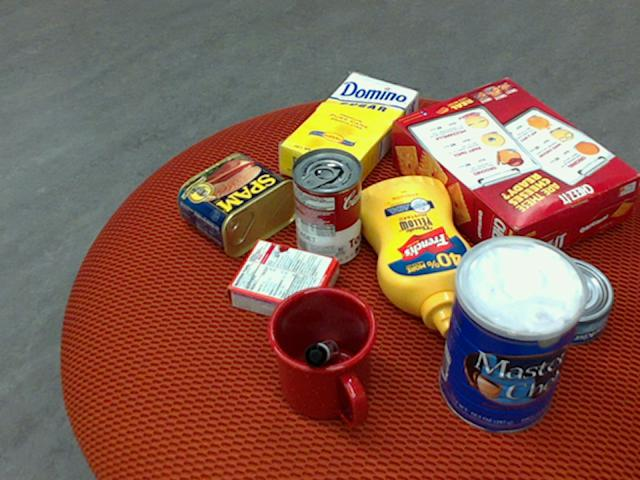cracker_box: (390, 76, 639, 272)
gelatin_box: (223, 238, 334, 330)
large_marker: (303, 340, 337, 368)
master_chef_can: (438, 237, 590, 435)
mug: (264, 286, 376, 427)
mustard_bottle: (355, 175, 476, 339)
potted_meat_can: (175, 151, 299, 256)
sugar_box: (276, 71, 416, 195)
tomato_soup_can: (291, 145, 361, 266)
tuna_fish_can: (517, 256, 613, 345)
